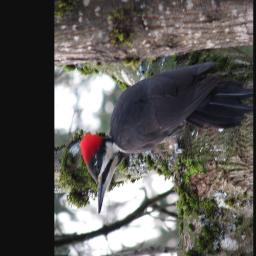Woodpecker: (78, 55, 248, 218)
